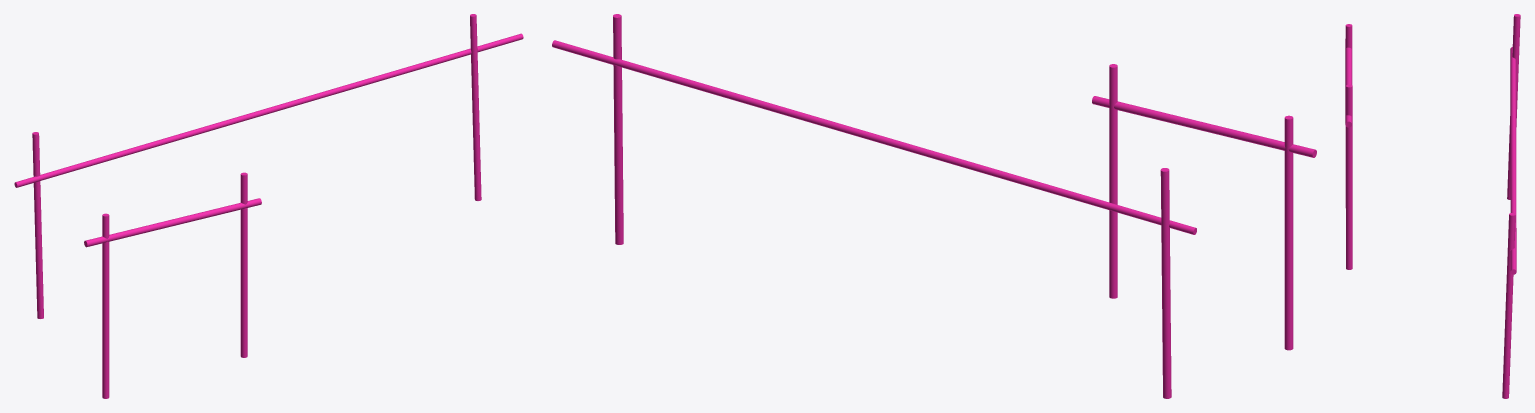
File: pipe4.fbx
The picture shows the model from 3 angles, left to right: view 1: azimuth 30°, elevation 25°; view 2: azimuth 150°, elevation 25°; view 3: azimuth 270°, elevation 25°; orthographic projection. The views are drawn at different scales.
Visible parts, largest first — view 1: Oil_Tank_3, Oil_Tank_5, Oil_Tank_7, Oil_Tank_1, Oil_Tank_9, Oil_Tank_6; view 2: Oil_Tank_3, Oil_Tank_5, Oil_Tank_9, Oil_Tank_1, Oil_Tank_7, Oil_Tank_6; view 3: Oil_Tank_3, Oil_Tank_1, Oil_Tank_7, Oil_Tank_9, Oil_Tank_6, Oil_Tank_5.
Boxes of the visible parts, x1,y1,x2,y2 form: Oil_Tank_3: (14, 33, 523, 187); Oil_Tank_5: (102, 213, 109, 398); Oil_Tank_7: (240, 172, 247, 357); Oil_Tank_1: (470, 14, 481, 200); Oil_Tank_9: (32, 132, 43, 318); Oil_Tank_6: (84, 198, 261, 247); Oil_Tank_3: (552, 40, 1196, 234); Oil_Tank_5: (1284, 115, 1293, 350); Oil_Tank_9: (1160, 168, 1171, 398); Oil_Tank_1: (613, 14, 623, 244); Oil_Tank_7: (1109, 64, 1117, 298); Oil_Tank_6: (1092, 96, 1316, 157); Oil_Tank_3: (1510, 47, 1516, 274); Oil_Tank_1: (1502, 213, 1515, 398); Oil_Tank_7: (1346, 84, 1352, 269); Oil_Tank_9: (1507, 14, 1520, 199); Oil_Tank_6: (1345, 39, 1351, 127); Oil_Tank_5: (1345, 24, 1352, 207).
Size of the model in its own units: 2047 by 803 by 598.
